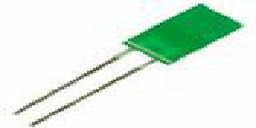LED: (12, 3, 244, 127)
